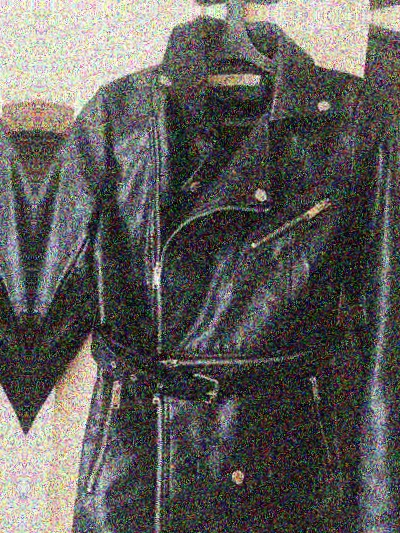Blazer: (20, 28, 400, 533), (0, 13, 41, 533)
